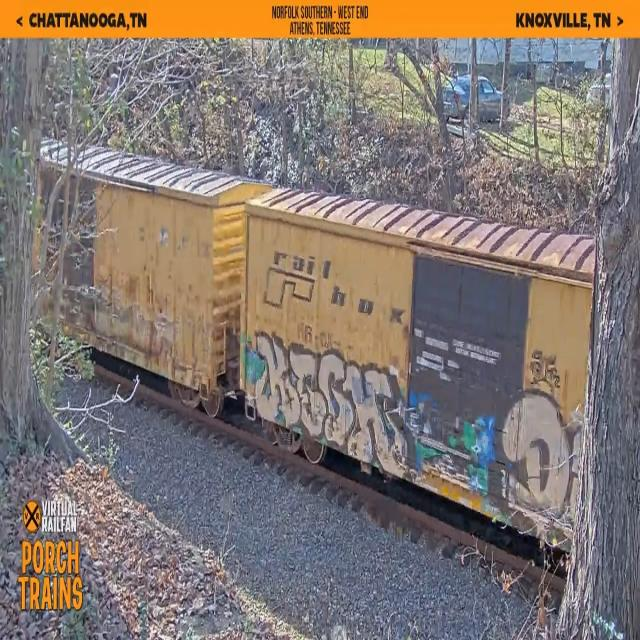boxcar: (238, 171, 582, 575), (42, 132, 246, 434)
